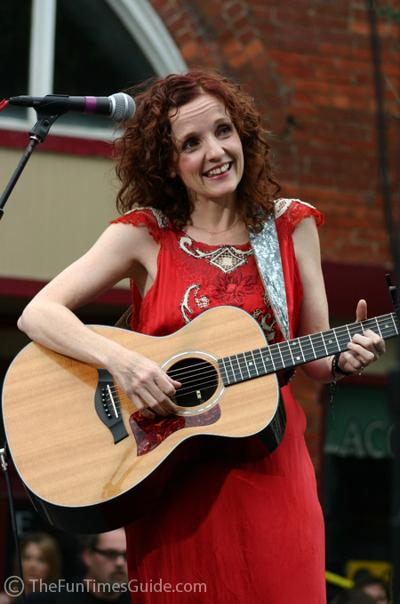person: (16, 72, 386, 604)
